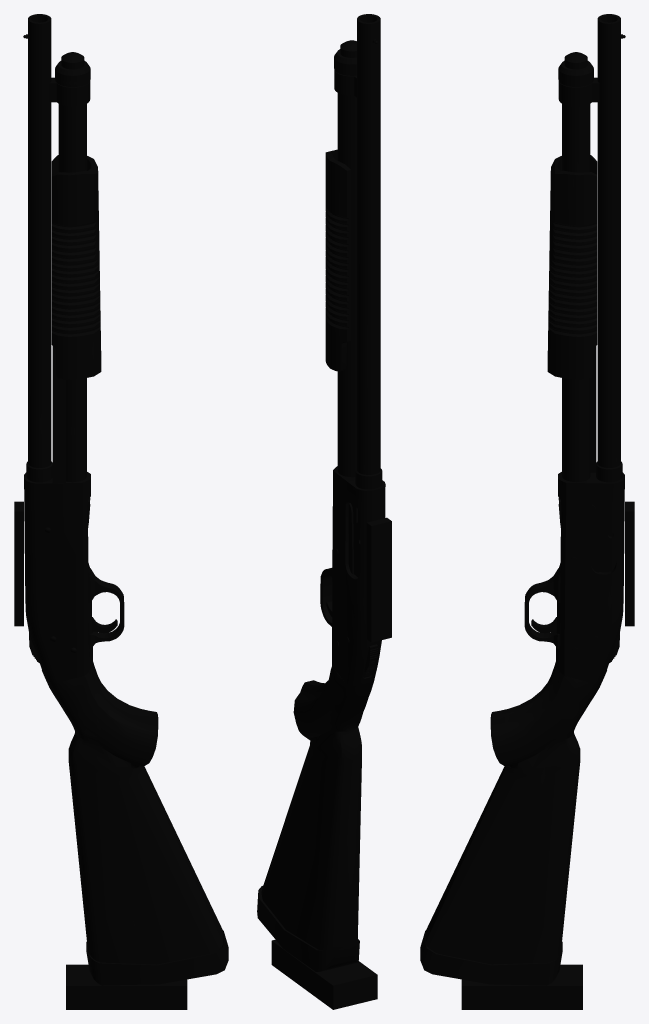
File: M590__Mount_ScopeBase__RecoilPad_Rubber.fbx
3 renders of one model, left to right at view 1: azimuth 90°, elevation 25°; view 2: azimuth 210°, elevation 25°; view 3: azimuth 270°, elevation 25°, orthographic.
Visible parts, largest first — view 1: asset_M590.001; view 2: asset_M590.001; view 3: asset_M590.001.
Boxes of the visible parts, box(x1,y1,x2,y2) form: asset_M590.001: box(14, 14, 228, 1009); asset_M590.001: box(257, 14, 391, 1009); asset_M590.001: box(420, 14, 634, 1009).
Size of the model in its own units: 0.0323 by 0.615 by 0.1218.
